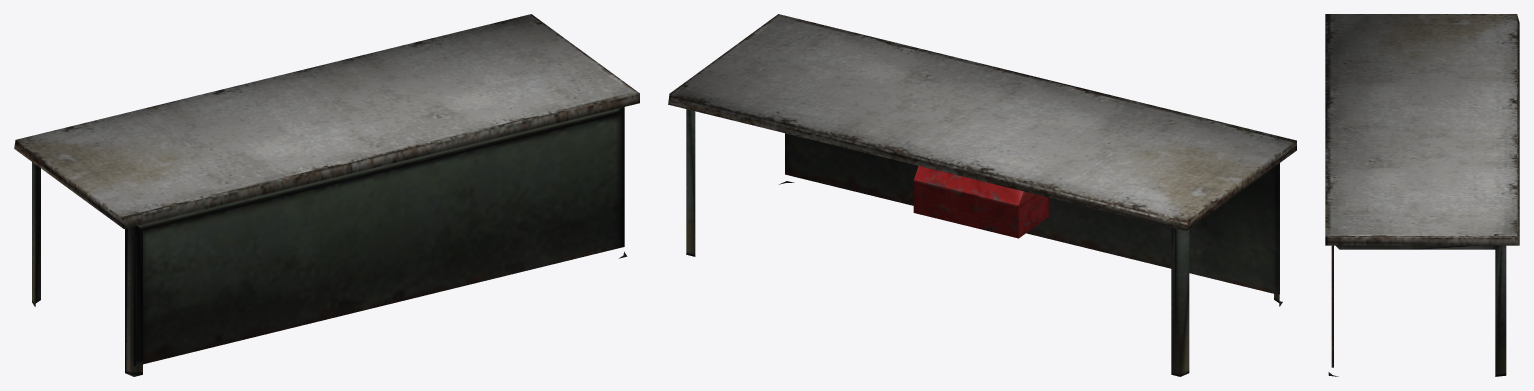
3 views of the same model, side by side, from view 1: azimuth 30°, elevation 25°; view 2: azimuth 150°, elevation 25°; view 3: azimuth 270°, elevation 25° (orthographic). The views are drawn at different scales.
Visible parts, largest first — view 1: body_zp_table02_mdl_mesh_0; view 2: body_zp_table02_mdl_mesh_0, studio_toolbox_reference_mesh_0; view 3: body_zp_table02_mdl_mesh_0.
Part boxes in pixels (x1=…): body_zp_table02_mdl_mesh_0: x1=14, y1=14, x2=639, y2=376; body_zp_table02_mdl_mesh_0: x1=668, y1=14, x2=1296, y2=376; studio_toolbox_reference_mesh_0: x1=913, y1=166, x2=1048, y2=238; body_zp_table02_mdl_mesh_0: x1=1325, y1=14, x2=1519, y2=376.
Size of the model in its own units: 47.14 by 14.15 by 17.37.
